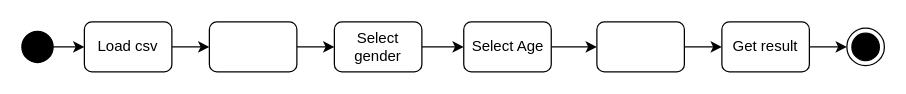
The diagram is 906 pixels wide and 94 high, and some of its shapes have lost their labels. The shapes that lost their labels are listed below. From the top down, each one's box as (x1, y1, x2, y2) in pixels, then its label:
(208, 21, 297, 72): Select sidebar
(596, 21, 684, 72): Select Method
